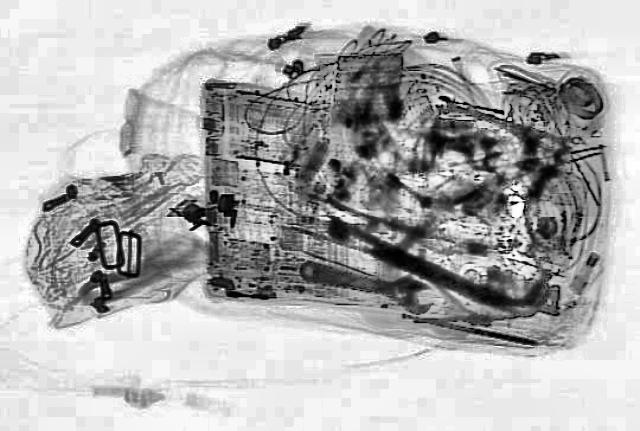Wrench: (288, 251, 444, 315)
